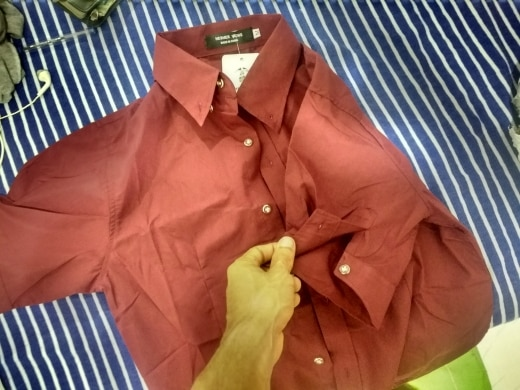shirts: (15, 16, 495, 390)
